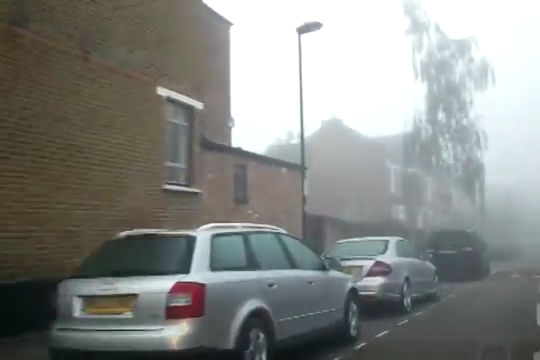car: (45, 220, 364, 360), (311, 234, 443, 312), (424, 227, 492, 282)
